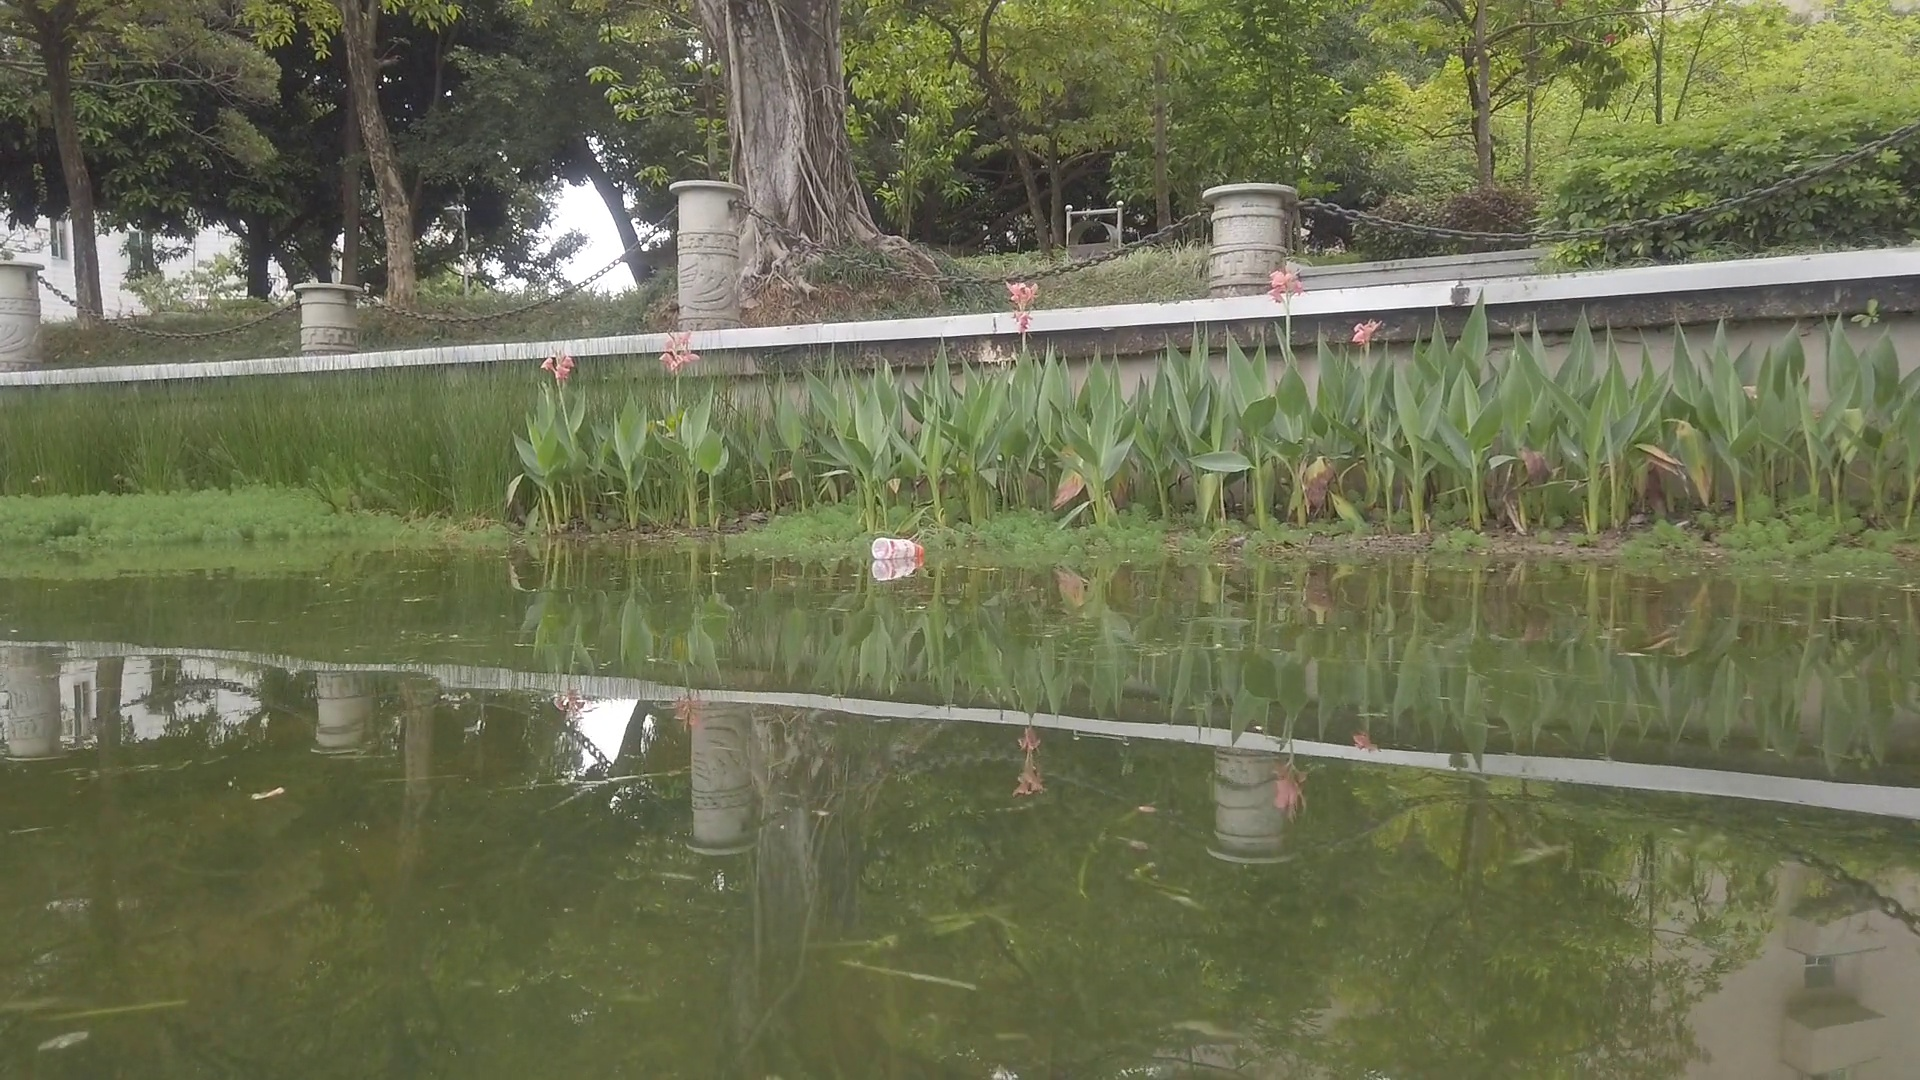bottle: (872, 537, 924, 556)
